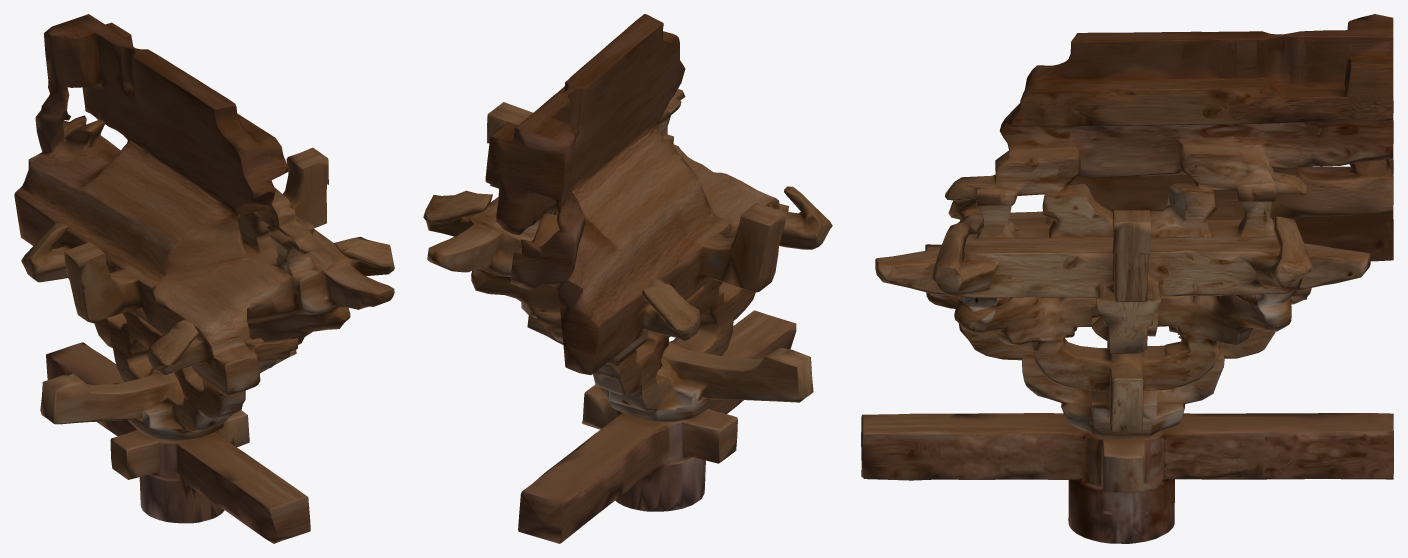
The model's file is dougong.glb.
The picture shows the model from 3 angles, left to right: view 1: azimuth 30°, elevation 25°; view 2: azimuth 150°, elevation 25°; view 3: azimuth 270°, elevation 25°; orthographic projection. The views are drawn at different scales.
Visible parts, largest first — view 1: node_62a643c7-dfd2-403c-a81d-047a7a94afc0; view 2: node_62a643c7-dfd2-403c-a81d-047a7a94afc0; view 3: node_62a643c7-dfd2-403c-a81d-047a7a94afc0.
Boxes of the visible parts, left/top/right/bottom form: node_62a643c7-dfd2-403c-a81d-047a7a94afc0: left=14, top=14, right=394, bottom=543; node_62a643c7-dfd2-403c-a81d-047a7a94afc0: left=423, top=14, right=832, bottom=543; node_62a643c7-dfd2-403c-a81d-047a7a94afc0: left=861, top=14, right=1393, bottom=543.
Bounding box in the file's own units: 0.7113 × 1 × 0.9655.
1 material, 1 textured.
